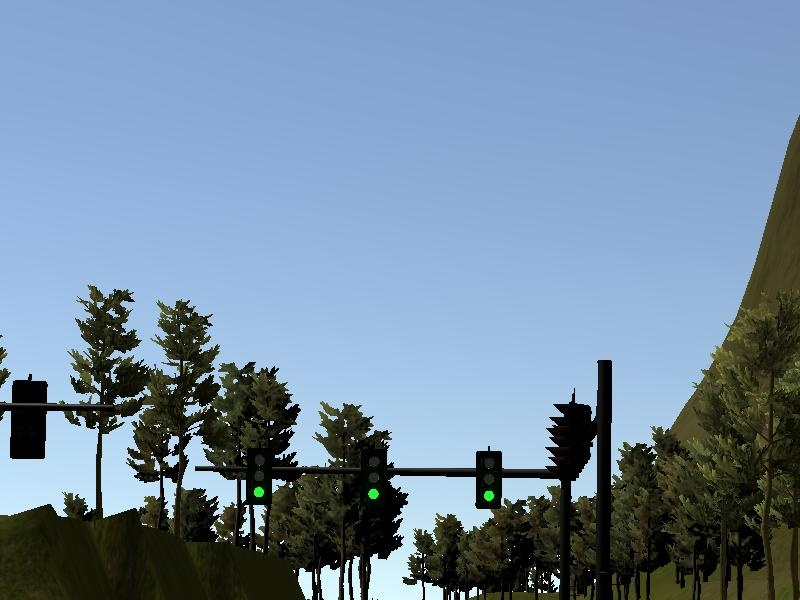GREEN: (359, 450, 388, 506), (475, 451, 503, 509), (246, 445, 272, 503)
